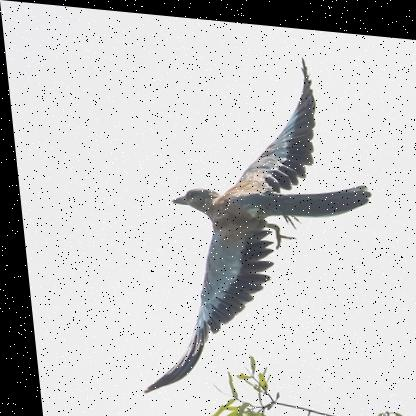Burung: (107, 42, 383, 410)
